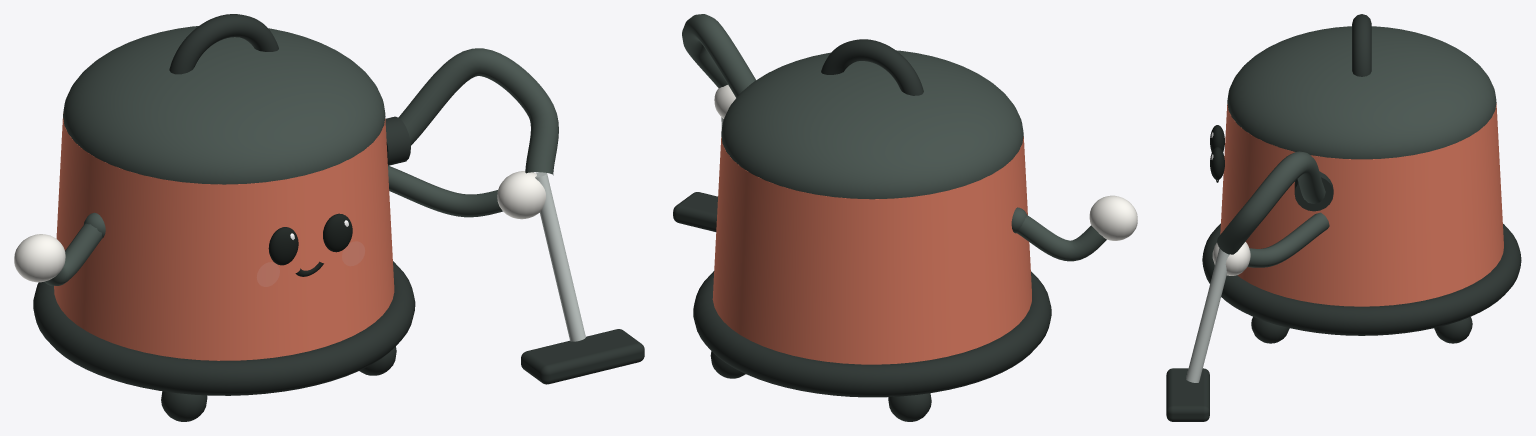
Rendered from vacuum.glb.
3 renders of one model, left to right at view 1: azimuth 30°, elevation 25°; view 2: azimuth 150°, elevation 25°; view 3: azimuth 270°, elevation 25°, orthographic. The views are drawn at different scales.
Parts seen in each view (by area): view 1: vacuum, arm (×2), face; view 2: vacuum, arm (×2); view 3: vacuum, arm, face.
Boxes of the visible parts, <box> form: vacuum: <box>33,14,644,421</box>; arm (×2): <box>14,166,545,285</box>; face: <box>257,213,364,286</box>; vacuum: <box>673,14,1051,421</box>; arm (×2): <box>714,85,1137,261</box>; vacuum: <box>1166,14,1521,421</box>; arm: <box>1212,212,1329,275</box>; face: <box>1210,125,1224,182</box>.
Size of the model in its own units: 2.44 by 1.5 by 1.64.
